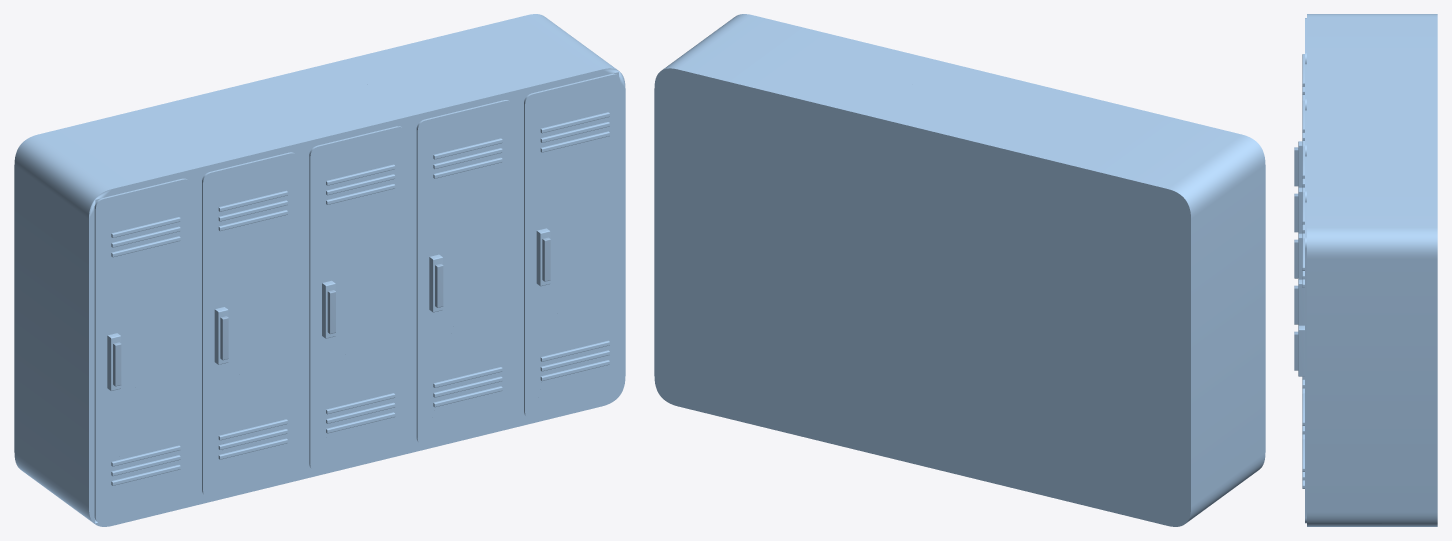
3 renders of one model, left to right at view 1: azimuth 30°, elevation 25°; view 2: azimuth 150°, elevation 25°; view 3: azimuth 270°, elevation 25°, orthographic. The views are drawn at different scales.
Visible parts, largest first — view 1: Box021, Box024, Box028, Box030, Box029, Box031; view 2: Box021; view 3: Box021, Box031, Box030, Box029, Box028, Box024.
Boxes of the visible parts, x1=… form: Box021: x1=14, y1=14, x2=625, y2=526; Box024: x1=94, y1=178, x2=190, y2=523; Box028: x1=202, y1=152, x2=298, y2=497; Box030: x1=416, y1=100, x2=512, y2=444; Box029: x1=309, y1=126, x2=405, y2=470; Box031: x1=524, y1=73, x2=620, y2=418; Box021: x1=654, y1=14, x2=1265, y2=526; Box021: x1=1307, y1=14, x2=1437, y2=526; Box031: x1=1294, y1=202, x2=1306, y2=523; Box030: x1=1294, y1=156, x2=1306, y2=439; Box029: x1=1294, y1=110, x2=1306, y2=393; Box028: x1=1294, y1=64, x2=1306, y2=233; Box024: x1=1294, y1=18, x2=1306, y2=187.
Size of the model in its own units: 2.5 by 1.5 by 0.6588.
